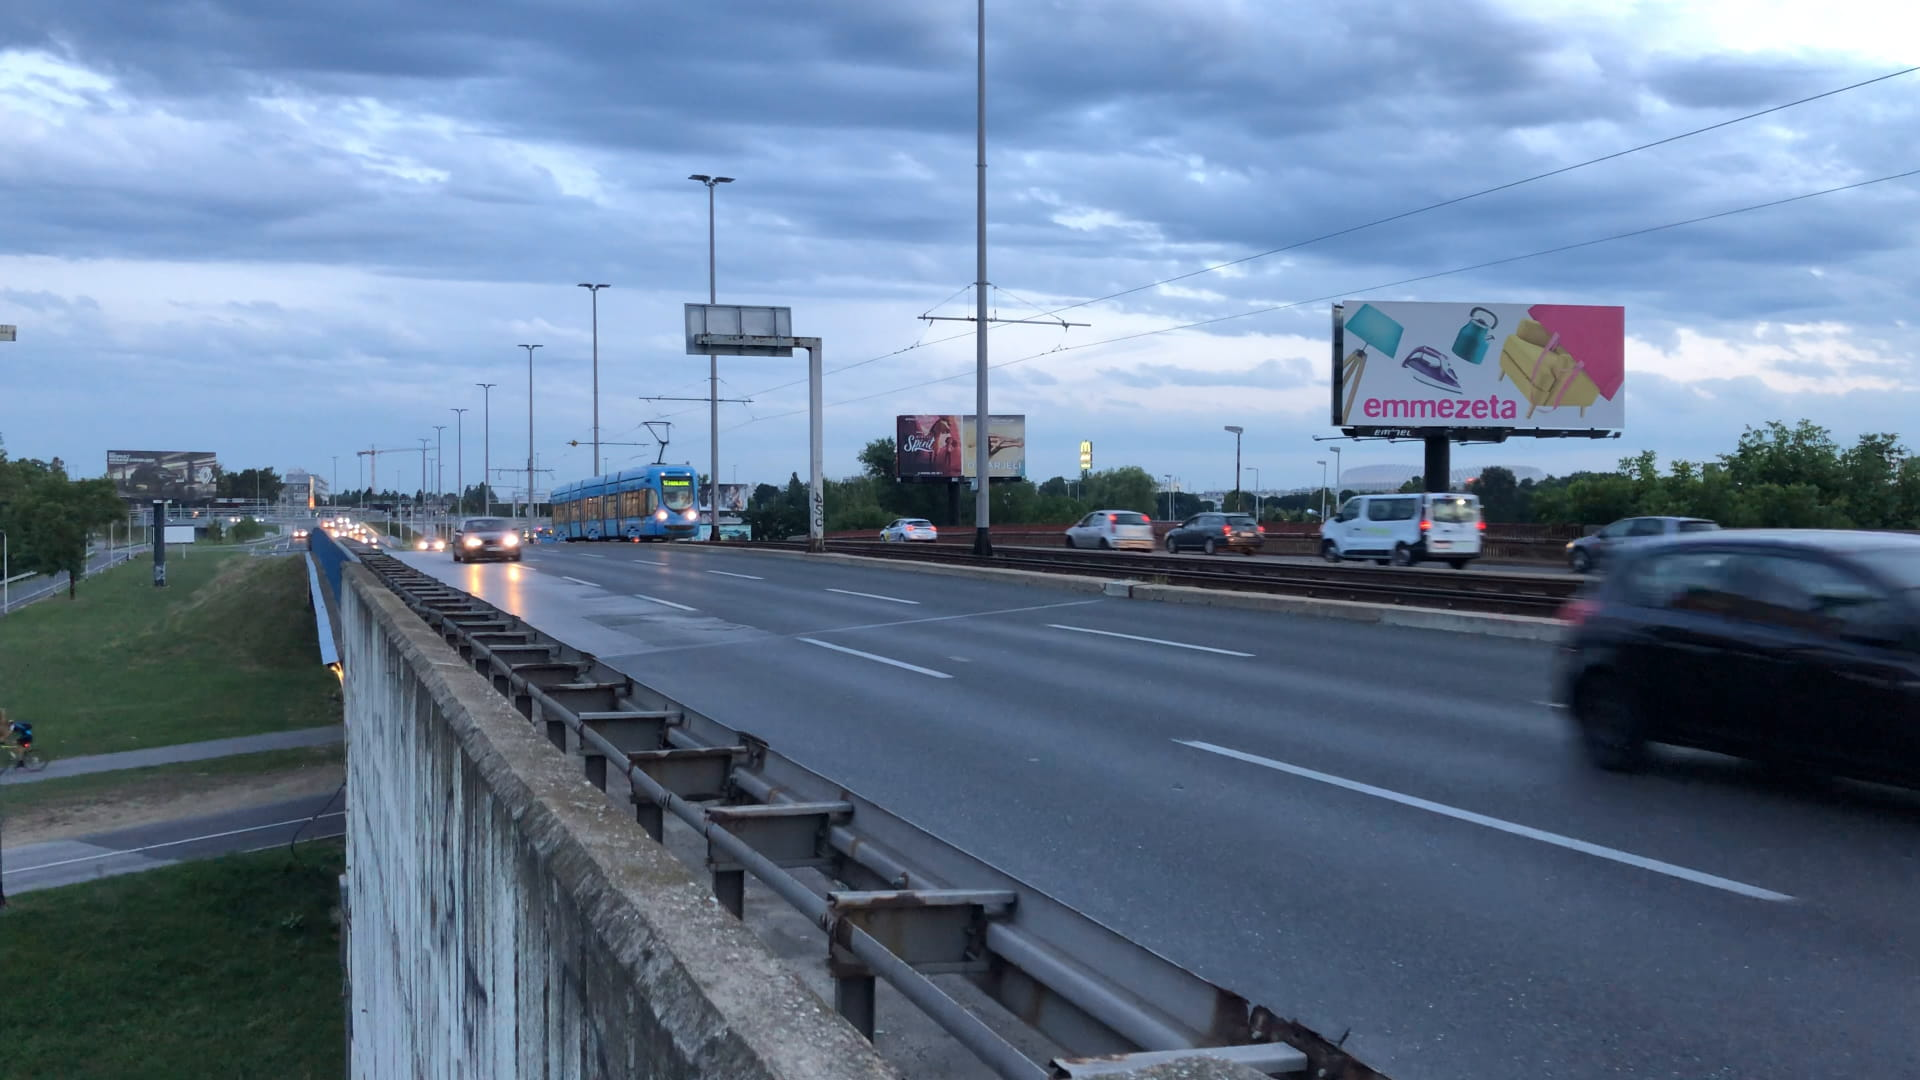tramvaj: (549, 460, 702, 545)
